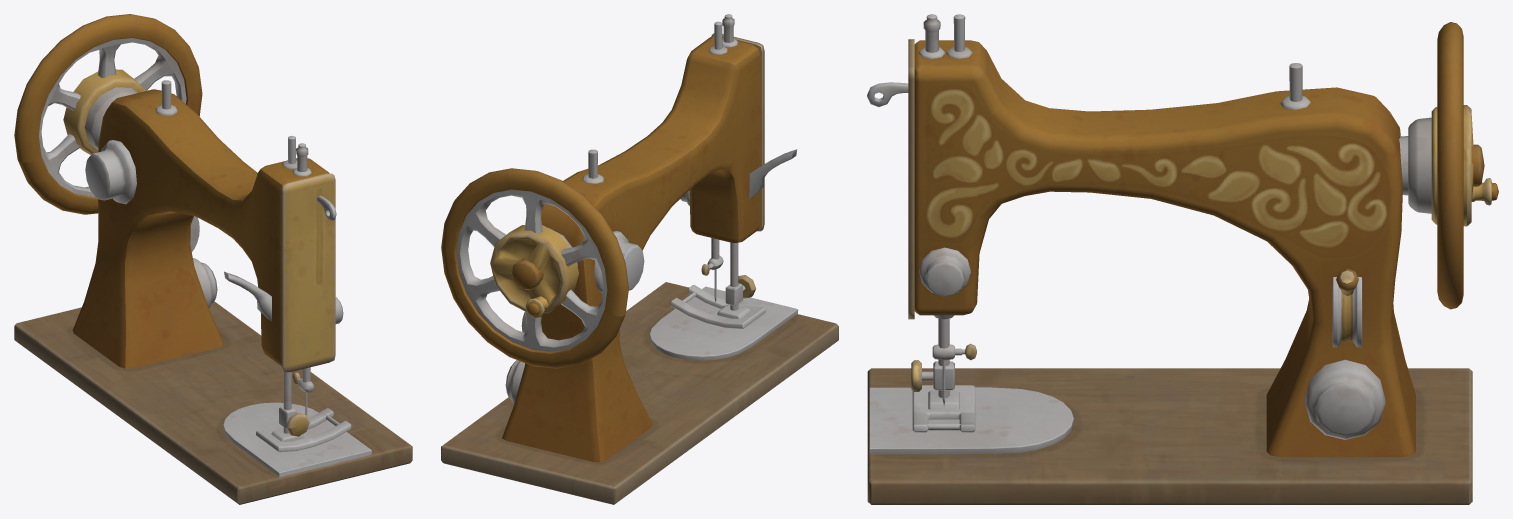
Rendered from SM_Farm_SewingMachine_01.fbx.
3 views of the same model, side by side, from view 1: azimuth 30°, elevation 25°; view 2: azimuth 150°, elevation 25°; view 3: azimuth 270°, elevation 25° (orthographic). The views are drawn at different scales.
Parts seen in each view (by area): view 1: SM_Farm_SewingMachine_01_LOD0; view 2: SM_Farm_SewingMachine_01_LOD0; view 3: SM_Farm_SewingMachine_01_LOD0.
Boxes of the visible parts, x1,y1,x2,y2 form: SM_Farm_SewingMachine_01_LOD0: (14,14,412,504); SM_Farm_SewingMachine_01_LOD0: (441,14,838,504); SM_Farm_SewingMachine_01_LOD0: (867,14,1498,504).
Bounding box in the file's own units: 44.25 × 73.58 × 96.85.
